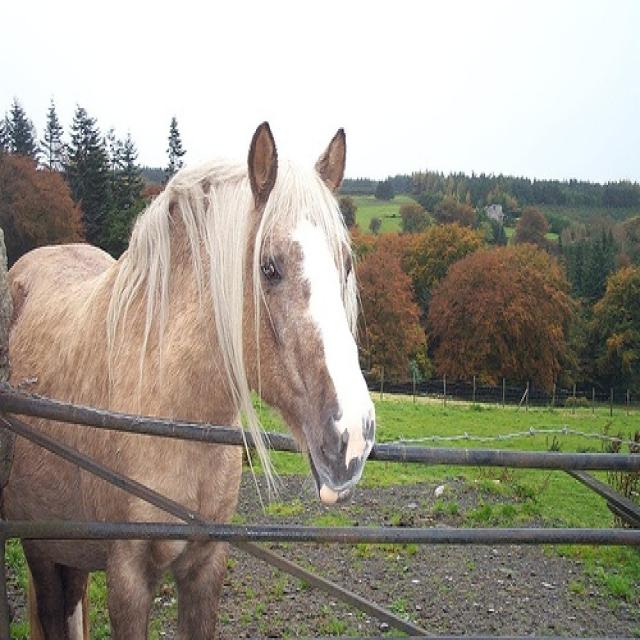horse: (2, 118, 376, 636)
